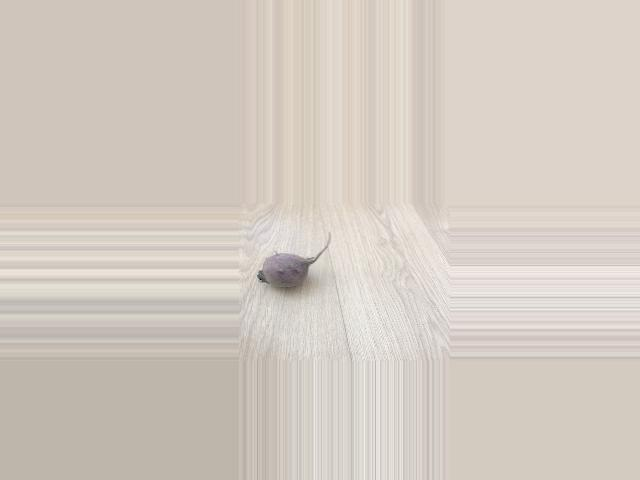beet: (258, 232, 333, 287)
